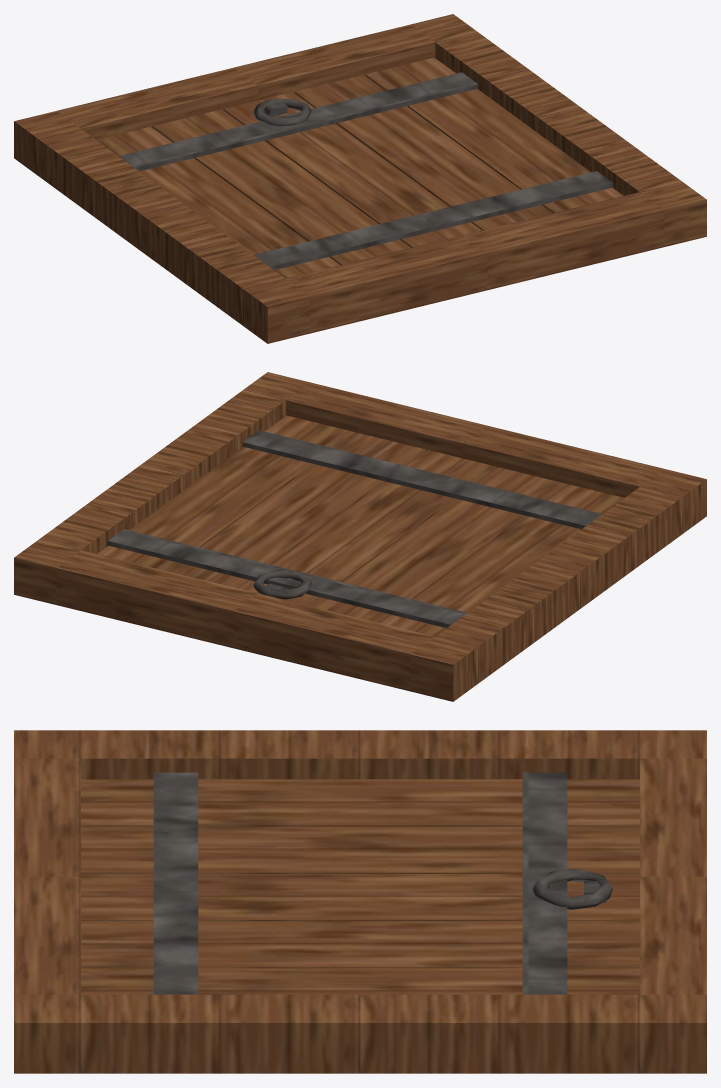
Rendered from trapdoor.lod1.glb.
3 renders of one model, top to bottom at view 1: azimuth 30°, elevation 25°; view 2: azimuth 150°, elevation 25°; view 3: azimuth 270°, elevation 25°, orthographic. The views are drawn at different scales.
Visible parts, largest first — view 1: Frame, Leaf; view 2: Frame, Leaf; view 3: Leaf, Frame.
Boxes of the visible parts, x1,y1,x2,y2 form: Frame: (14, 14, 706, 343); Leaf: (97, 57, 623, 278); Frame: (14, 372, 706, 701); Leaf: (97, 415, 623, 636); Leaf: (81, 772, 639, 994); Frame: (14, 730, 706, 1073).
Size of the model in its own units: 1.24 by 0.1 by 1.24.
Materials: 3 (3 with a texture image).
